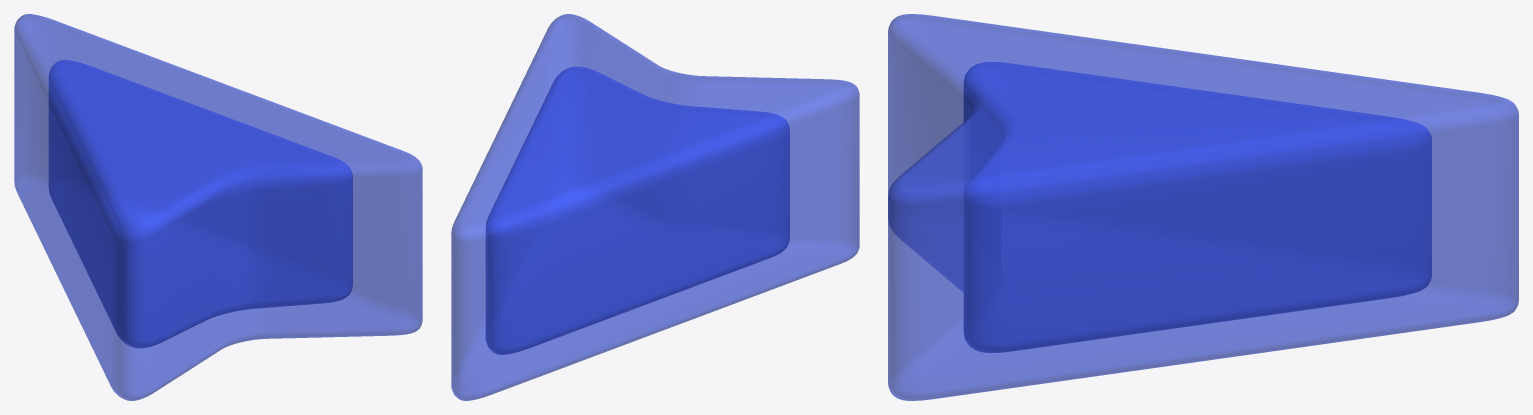
Rendered from Navigation Arrow.glb.
3 renders of one model, left to right at view 1: azimuth 30°, elevation 25°; view 2: azimuth 150°, elevation 25°; view 3: azimuth 270°, elevation 25°, orthographic. The views are drawn at different scales.
Parts seen in each view (by area): view 1: Navigation Arrow; view 2: Navigation Arrow; view 3: Navigation Arrow.
Boxes of the visible parts, x1,y1,x2,y2 form: Navigation Arrow: (14, 14, 422, 400); Navigation Arrow: (451, 14, 859, 400); Navigation Arrow: (888, 14, 1518, 400).
Bounding box in the file's own units: 0.1829 × 0.1 × 0.2667.
